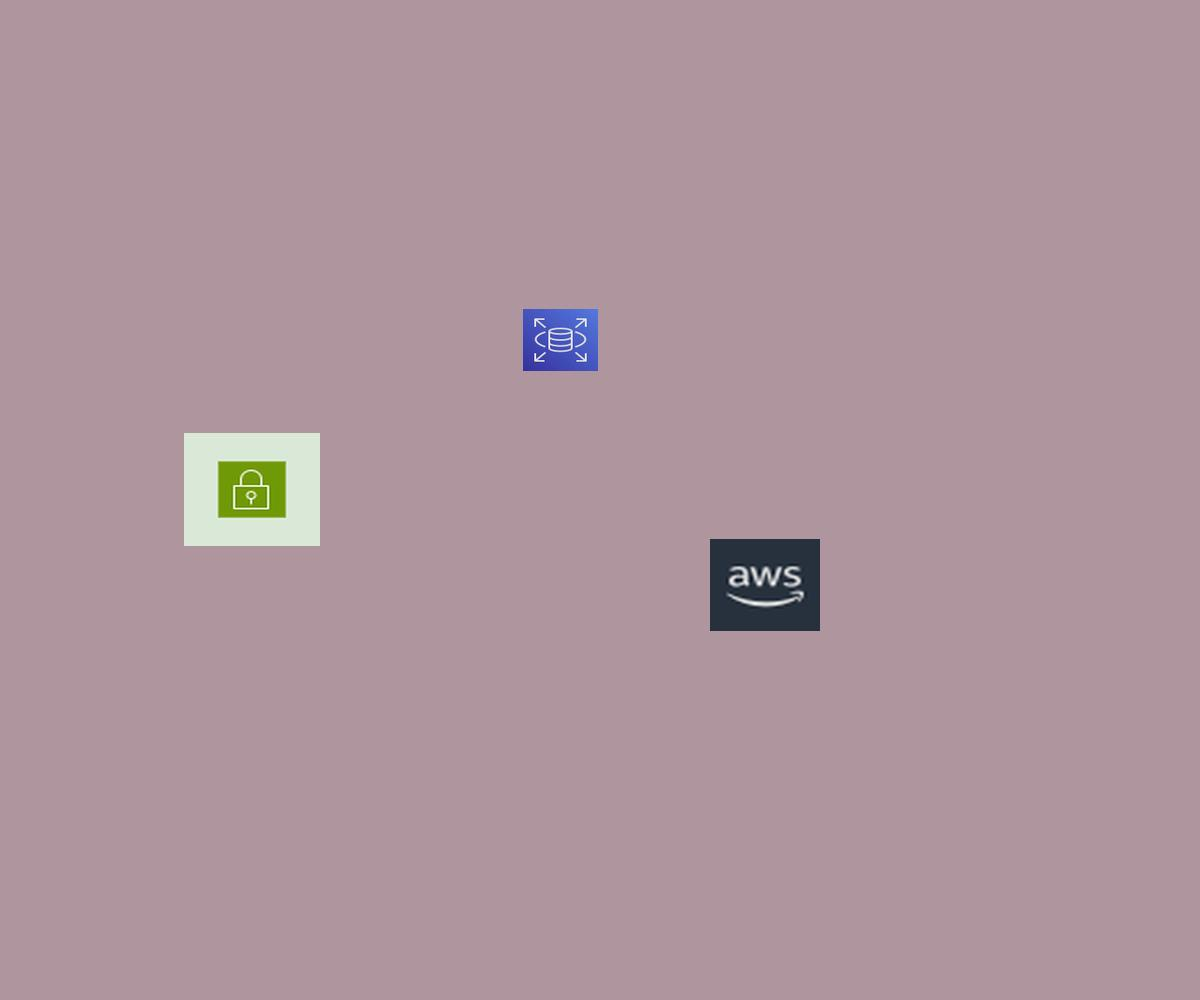AWS-Cloud-logo: (710, 539, 820, 631)
AWS-Public-subnet: (184, 433, 320, 546)
AWS-RDS: (523, 309, 598, 371)
